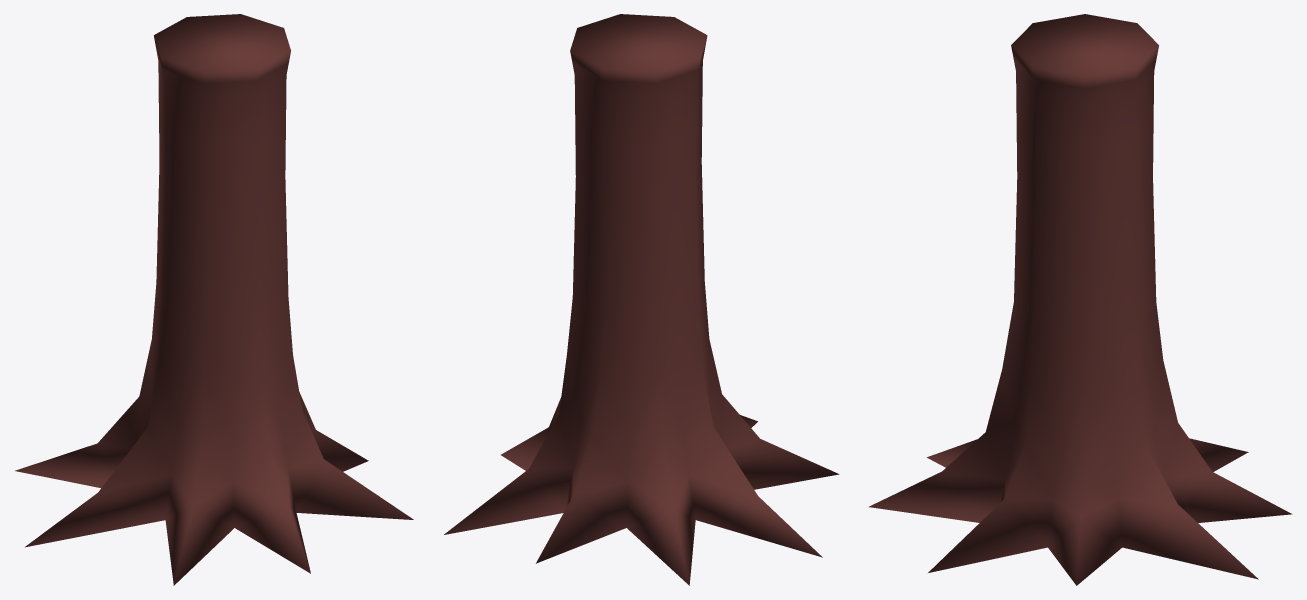
Rendered from scene_6_pillar.fbx.
3 views of the same model, side by side, from view 1: azimuth 30°, elevation 25°; view 2: azimuth 150°, elevation 25°; view 3: azimuth 270°, elevation 25° (orthographic). The views are drawn at different scales.
Parts seen in each view (by area): view 1: Cube; view 2: Cube; view 3: Cube.
Part boxes in pixels (bbox=[...]): Cube: bbox=[15, 14, 413, 585]; Cube: bbox=[444, 14, 839, 585]; Cube: bbox=[869, 14, 1292, 585].
Bounding box in the file's own units: 5.91 × 7.84 × 6.26.
